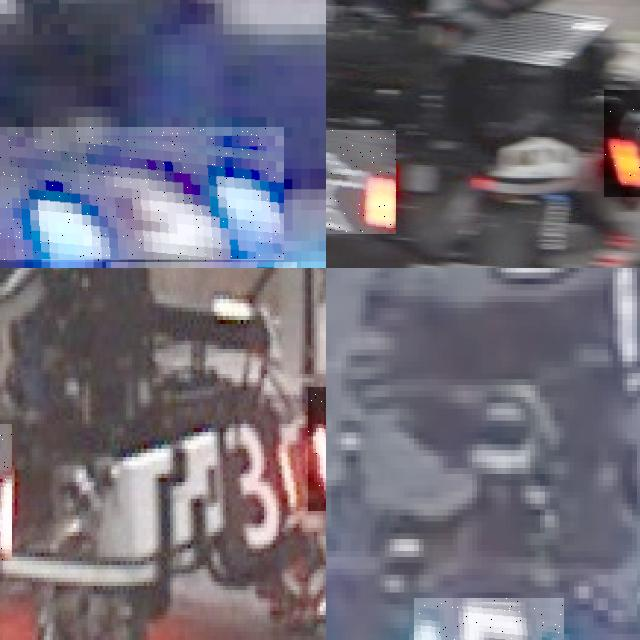B3: (0, 127, 283, 261)
B5: (413, 598, 564, 640)
Rs: (326, 129, 396, 234), (604, 90, 640, 196)
